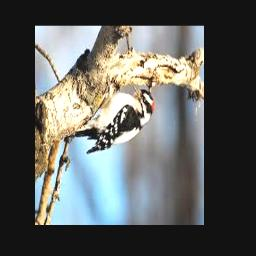Woodpecker: (69, 83, 154, 154)
